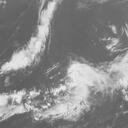cyclone: (66, 60, 107, 99)
